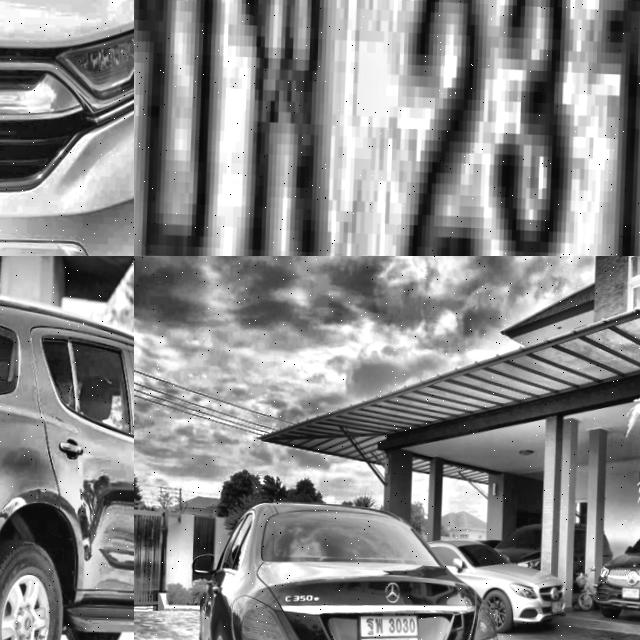license-plate: (134, 0, 640, 256), (356, 604, 424, 640), (620, 578, 640, 598), (551, 593, 566, 610)
